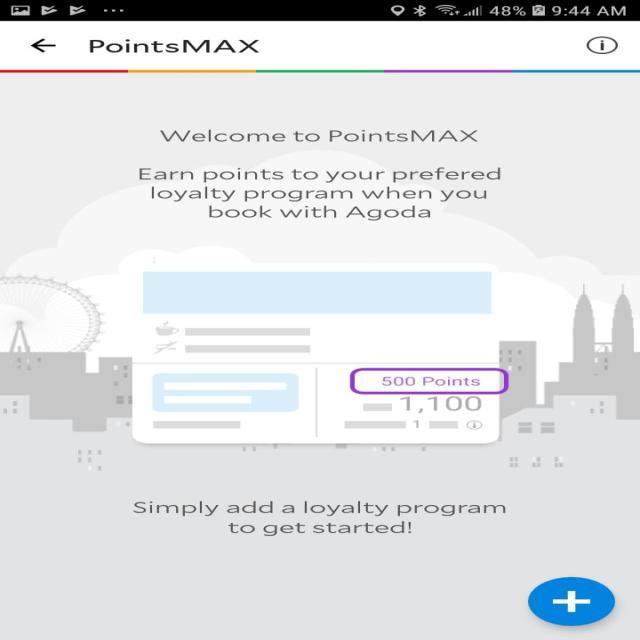BackgroundImage: (0, 72, 639, 640)
Icon: (526, 576, 614, 626), (585, 36, 618, 55), (30, 38, 56, 53)
Text: (138, 167, 500, 220), (132, 500, 505, 536), (159, 129, 477, 142), (88, 39, 260, 53)
